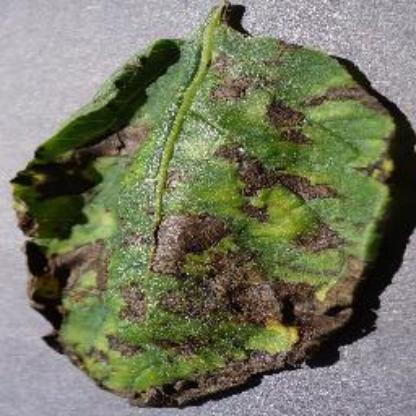Early-Blight: (12, 2, 416, 406)
